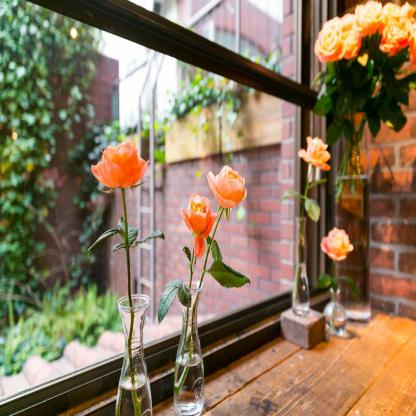vase: (334, 172, 370, 326), (115, 293, 150, 416), (174, 276, 203, 416), (291, 217, 309, 318), (322, 286, 347, 338)
